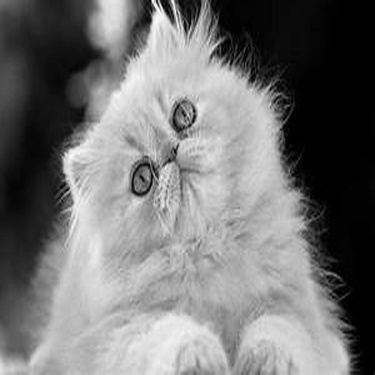cat: (21, 9, 354, 369)
